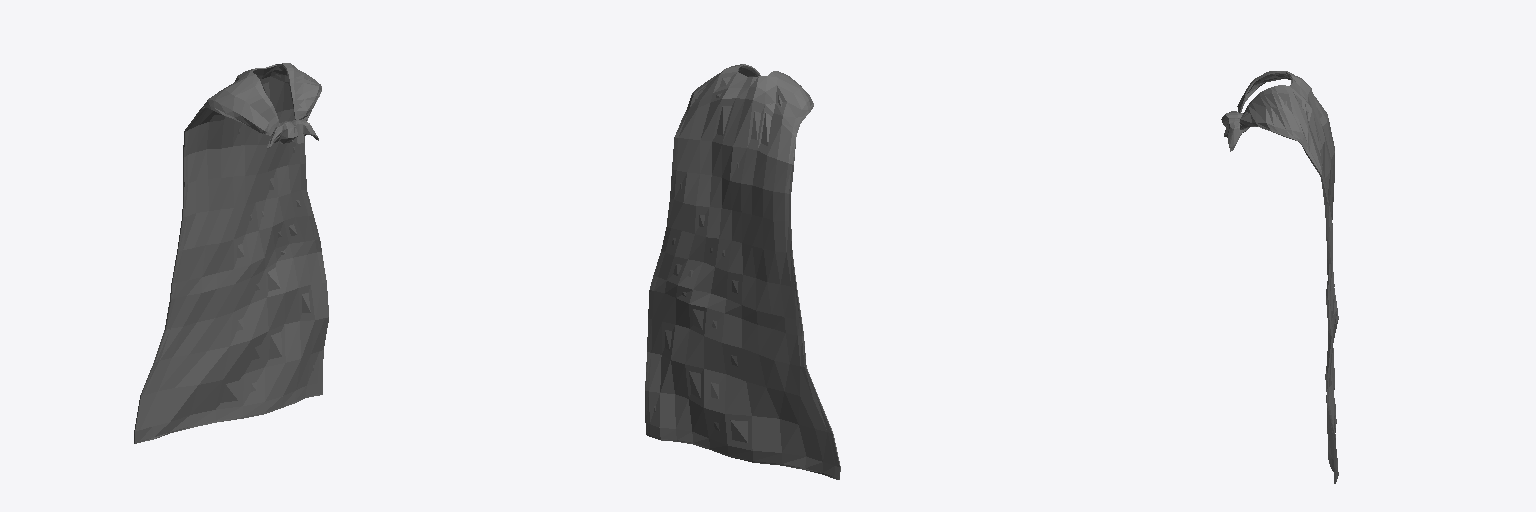
Rendered from capaLOW.obj.
3 views of the same model, side by side, from view 1: azimuth 30°, elevation 25°; view 2: azimuth 150°, elevation 25°; view 3: azimuth 270°, elevation 25° (orthographic).
Visible parts, largest first — view 1: nosess; view 2: nosess; view 3: nosess.
Part boxes in pixels (x1,y1,x2,y2): nosess: (134, 63, 328, 443); nosess: (645, 64, 840, 479); nosess: (1221, 71, 1338, 483).
Size of the model in its own units: 0.6886 by 1.25 by 0.3618.